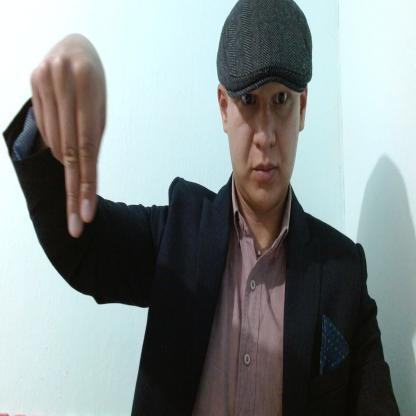N: (31, 34, 107, 237)
